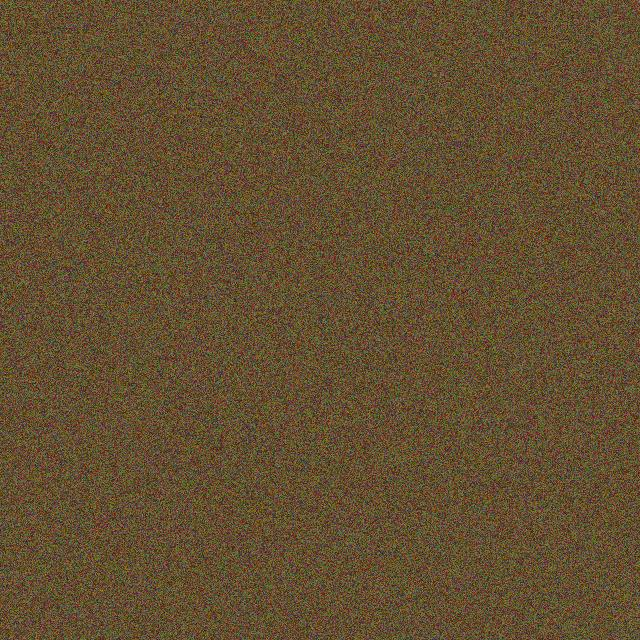ghost_net: (356, 135, 467, 207)
